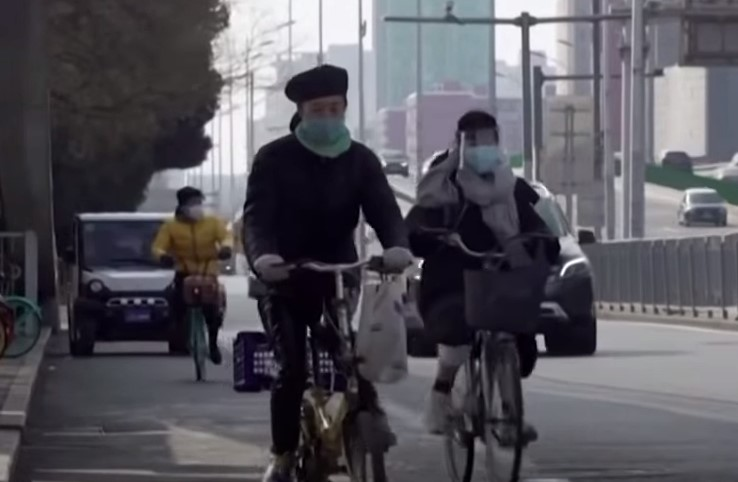face_with_mask: (451, 109, 512, 184), (295, 78, 351, 150), (178, 188, 206, 224)
